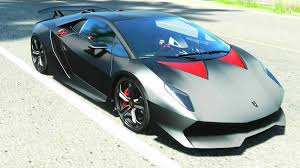Lamborghini: (31, 5, 285, 144)
